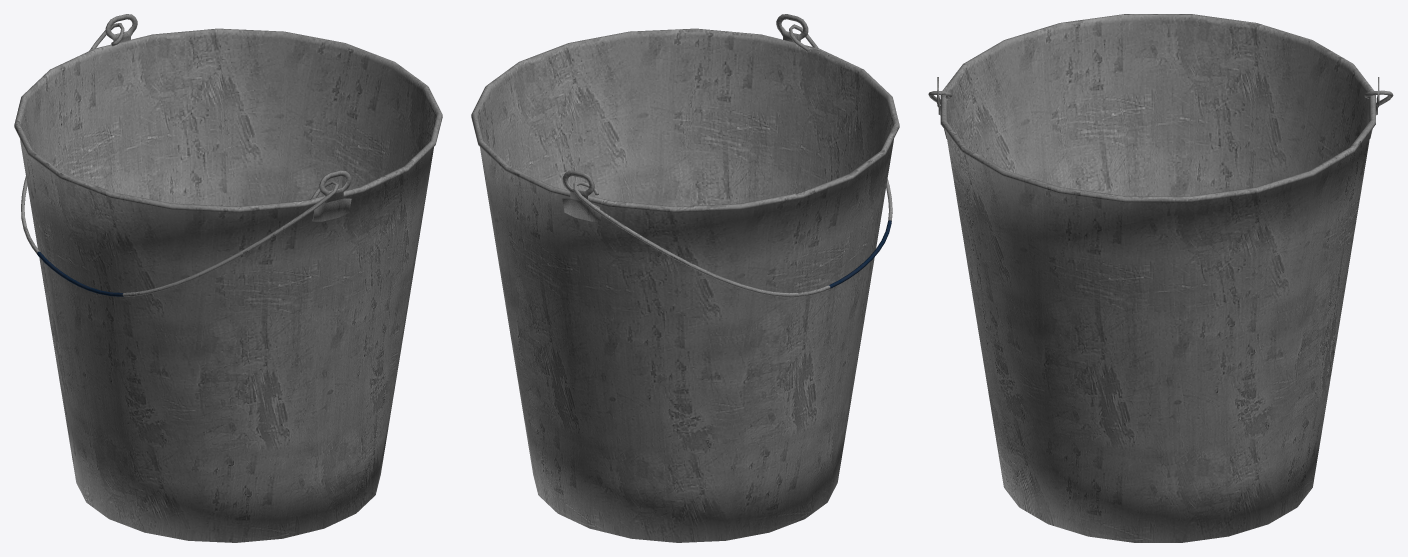
The model's file is obj_metal_bucket_7d65d3.glb.
3 views of the same model, side by side, from view 1: azimuth 30°, elevation 25°; view 2: azimuth 150°, elevation 25°; view 3: azimuth 270°, elevation 25° (orthographic). The views are drawn at different scales.
Parts seen in each view (by area): view 1: obj_metal_bucket_7d65d3; view 2: obj_metal_bucket_7d65d3; view 3: obj_metal_bucket_7d65d3.
Boxes of the visible parts, <box> form: obj_metal_bucket_7d65d3: <box>14,14,442,542</box>; obj_metal_bucket_7d65d3: <box>471,14,899,542</box>; obj_metal_bucket_7d65d3: <box>928,14,1393,542</box>.
Size of the model in its own units: 0.4235 by 0.4235 by 0.45.
1 material, 1 textured.
